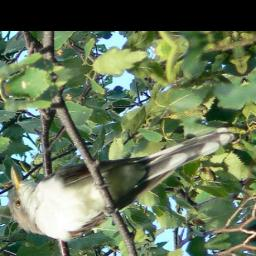Cuckoo: (0, 110, 249, 254)
